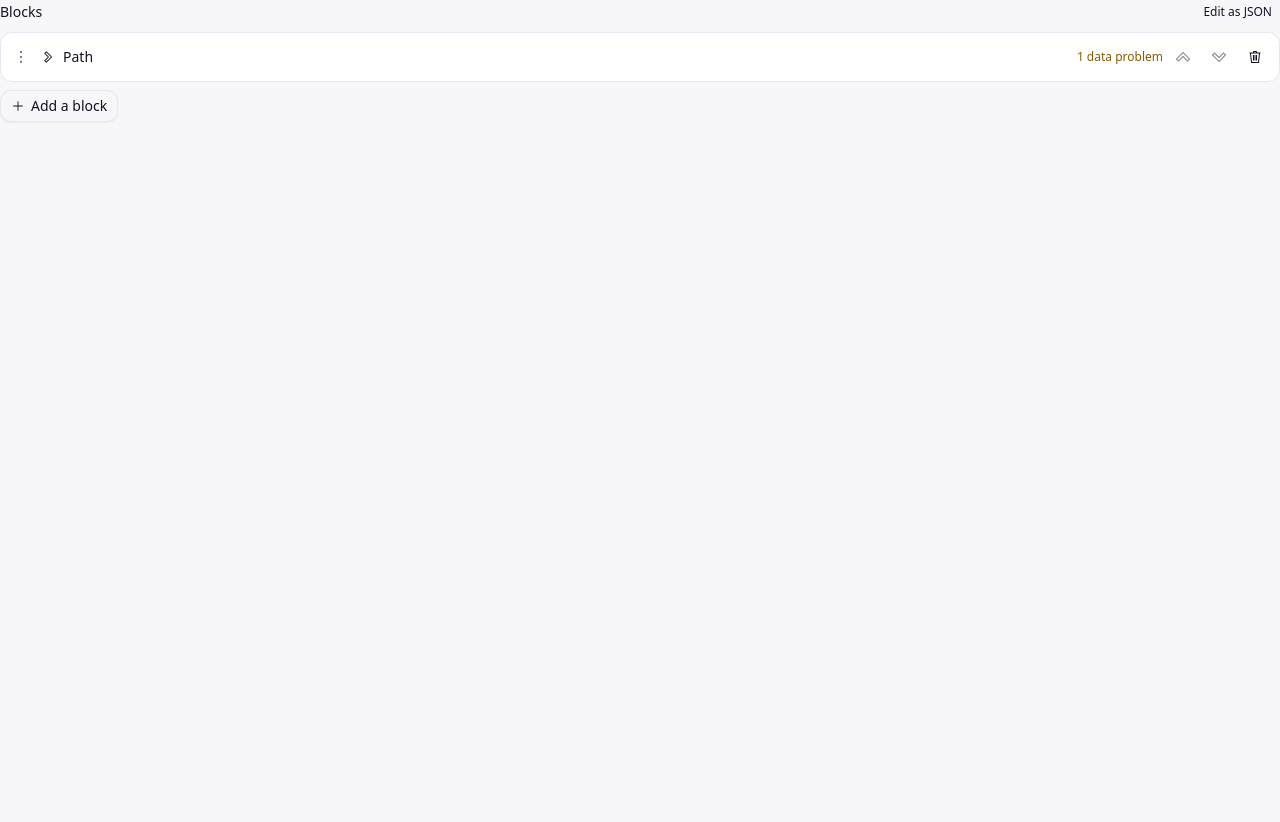
Scenario: a list of values › keeps a whole list bound to data, and lets an editor replace it with entries
Click the button "Path". click: [78, 56]
box: [37, 43, 1073, 71]
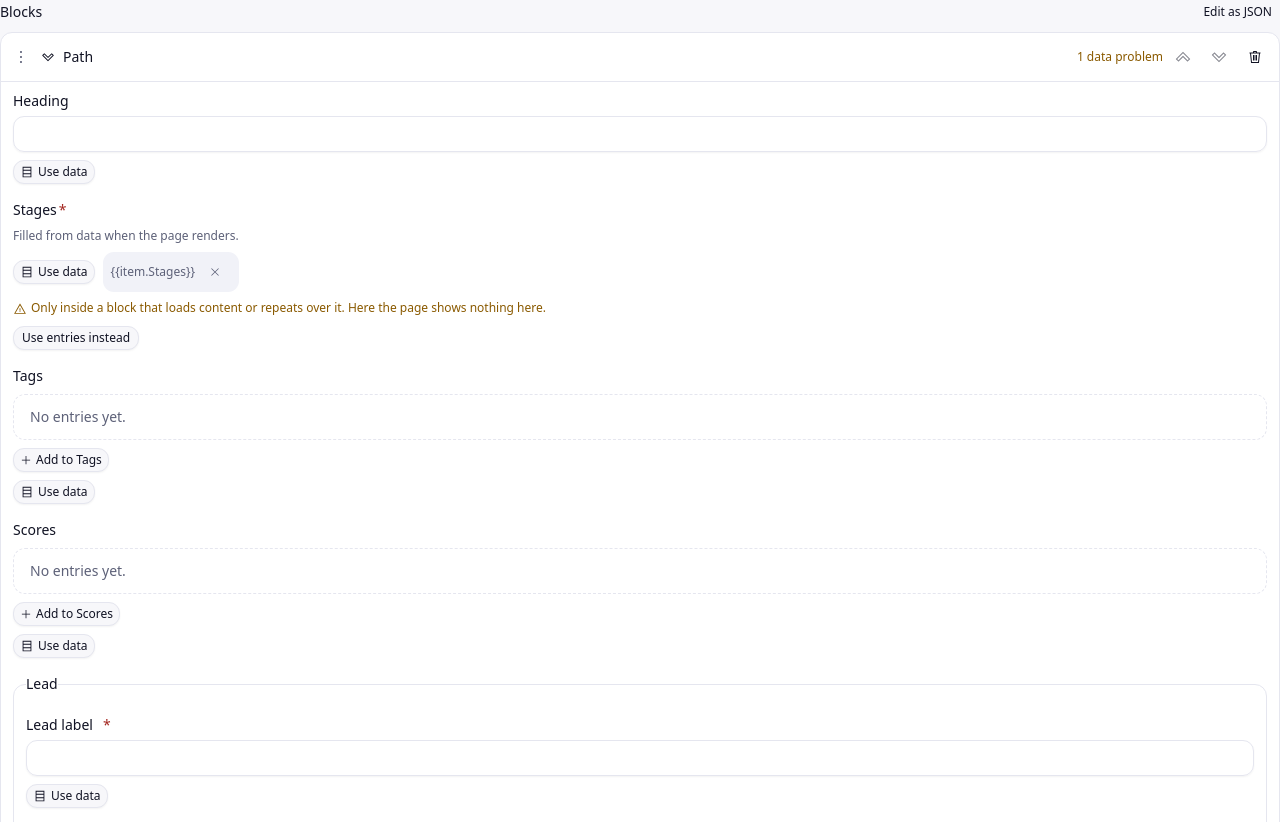
Expected: the text "{{item.Stages}}" is shown, [103, 252, 239, 292]
Click the button "Use entries instead". click: [76, 338]
box: [13, 326, 139, 350]
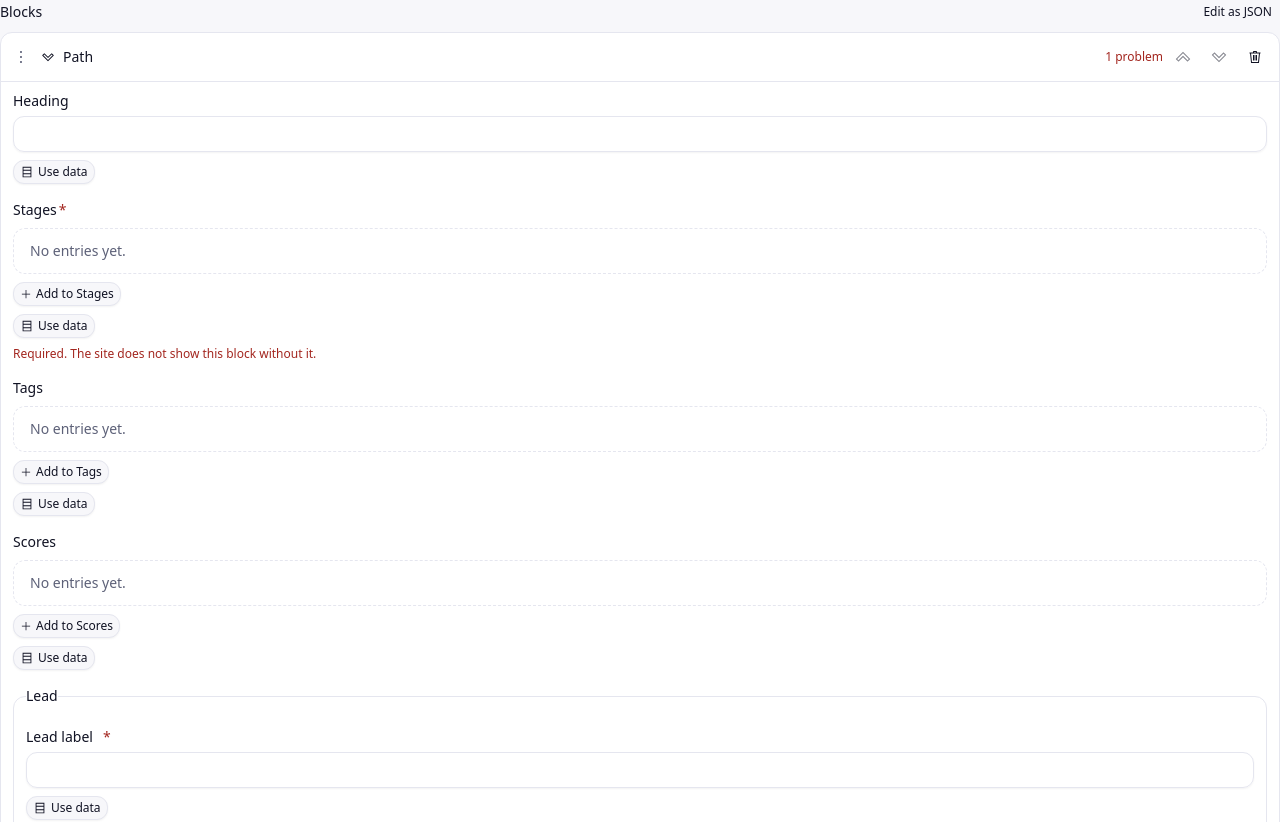
Expected: the button "Add to Stages" is enabled, [13, 282, 121, 306]
